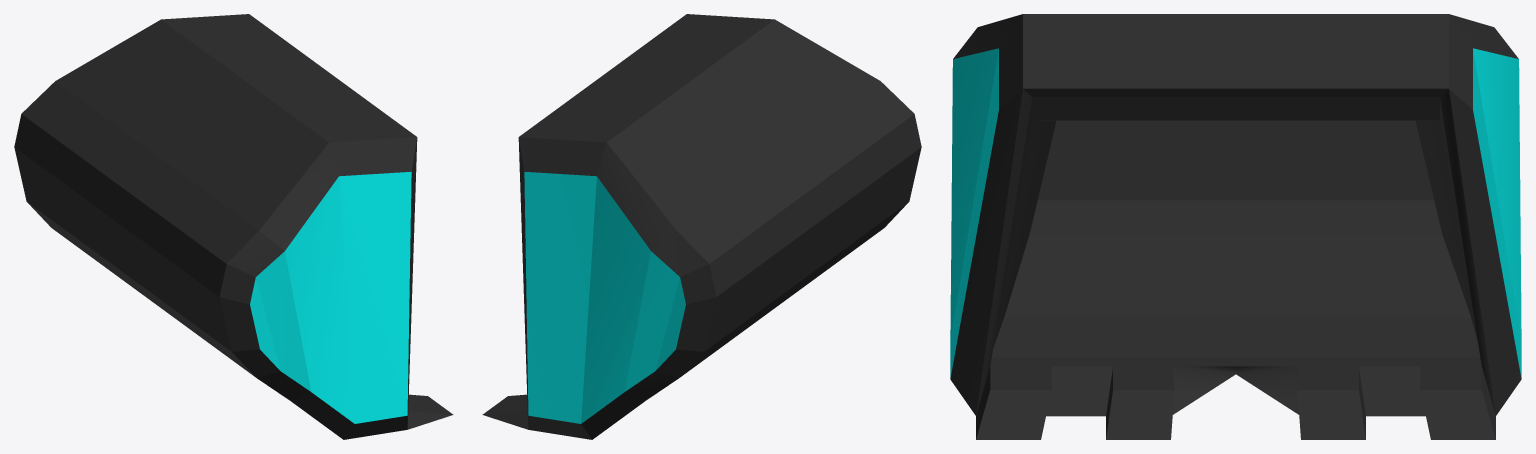
Rendered from CubeHook.fbx.
The picture shows the model from 3 angles, left to right: view 1: azimuth 30°, elevation 25°; view 2: azimuth 150°, elevation 25°; view 3: azimuth 270°, elevation 25°; orthographic projection. The views are drawn at different scales.
Parts seen in each view (by area): view 1: Cube; view 2: Cube; view 3: Cube.
Part boxes in pixels (x1,y1,x2,y2): Cube: (14,14,453,439); Cube: (482,14,921,439); Cube: (950,14,1521,439).
Size of the model in its own units: 165 by 194 by 275.
